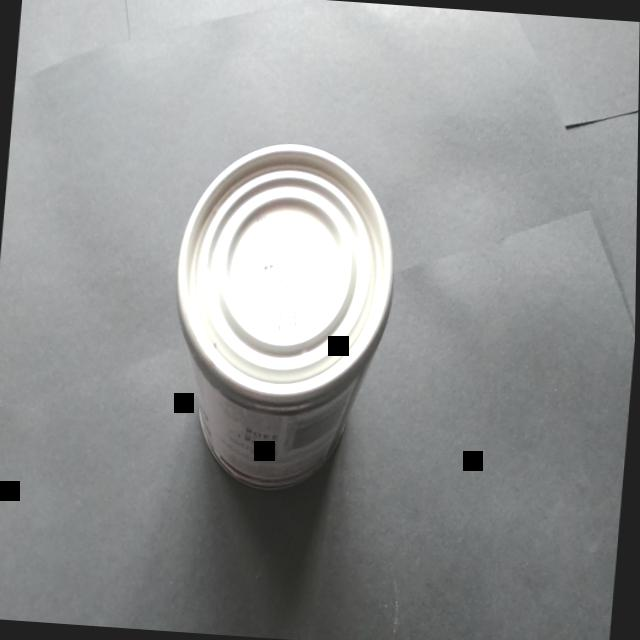Redbeans: (143, 120, 421, 512)
